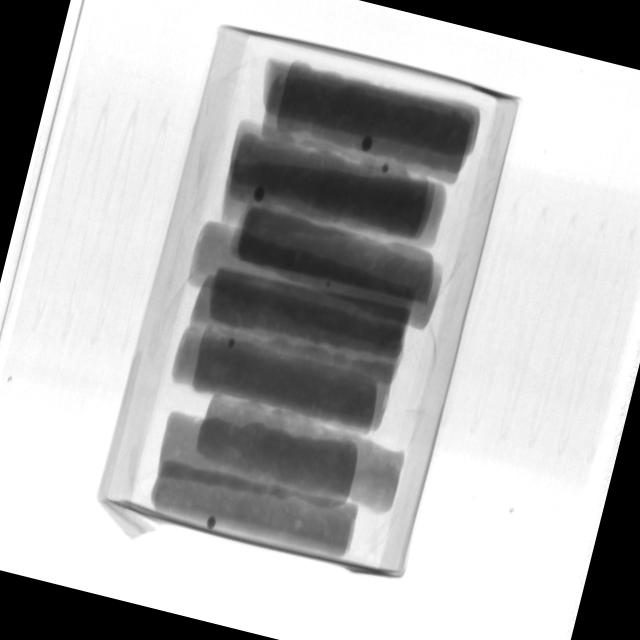ym: (359, 135, 375, 155), (251, 185, 267, 203), (226, 336, 238, 353), (205, 514, 218, 529), (324, 279, 334, 293), (382, 163, 391, 174)
